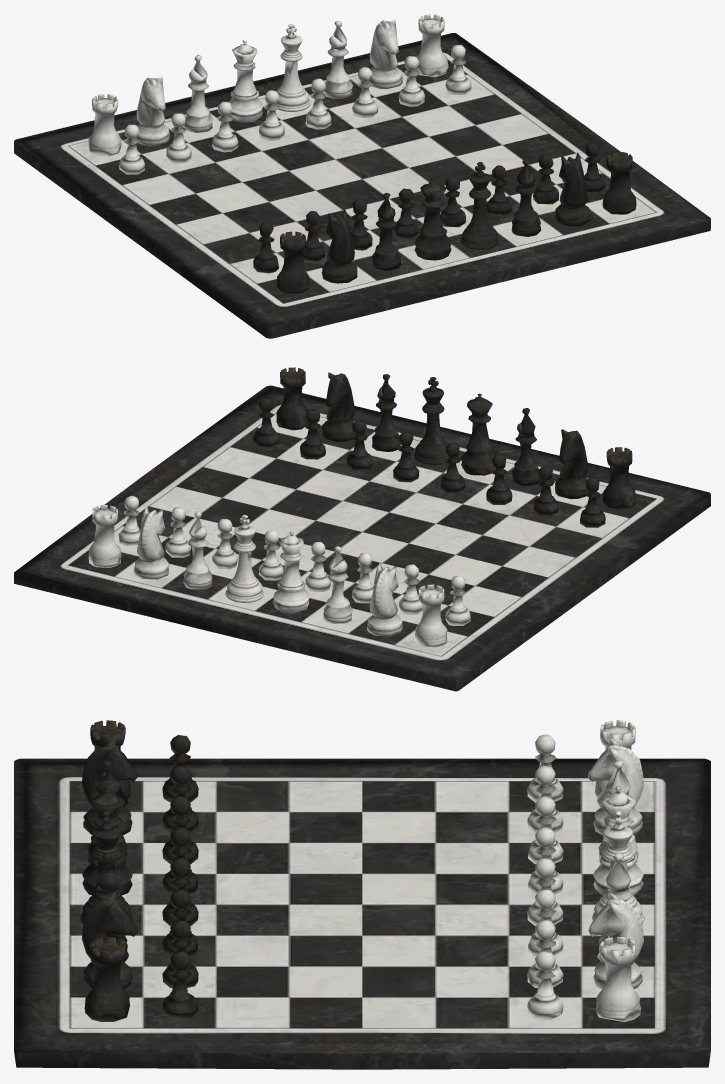
File: chess_set.glb
The picture shows the model from 3 angles, top to bottom: view 1: azimuth 30°, elevation 25°; view 2: azimuth 150°, elevation 25°; view 3: azimuth 270°, elevation 25°; orthographic projection. The views are drawn at different scales.
Visible parts, largest first — view 1: board, piece_rook_white_01, piece_rook_black_01, piece_king_black, piece_king_white; view 2: board, piece_rook_white_01, piece_rook_black_01, piece_king_white, piece_king_black; view 3: board, piece_rook_black_01, piece_rook_white_01, piece_king_black, piece_king_white.
Part boxes in pixels (x1,y1,x2,y2): board: (14, 33, 710, 338); piece_rook_white_01: (88, 14, 471, 174); piece_rook_black_01: (253, 142, 636, 293); piece_king_black: (461, 162, 499, 249); piece_king_white: (276, 24, 310, 111); board: (14, 385, 710, 691); piece_rook_white_01: (88, 495, 470, 647); piece_rook_black_01: (253, 367, 635, 527); piece_king_white: (225, 515, 263, 602); piece_king_black: (414, 377, 448, 464); board: (14, 758, 710, 1069); piece_rook_black_01: (81, 720, 198, 1021); piece_rook_white_01: (527, 720, 643, 1021); piece_king_black: (80, 811, 132, 923); piece_king_white: (592, 810, 644, 922).
Size of the model in its own units: 0.5526 by 0.1123 by 0.5519.
Materials: 3 (3 with a texture image).
